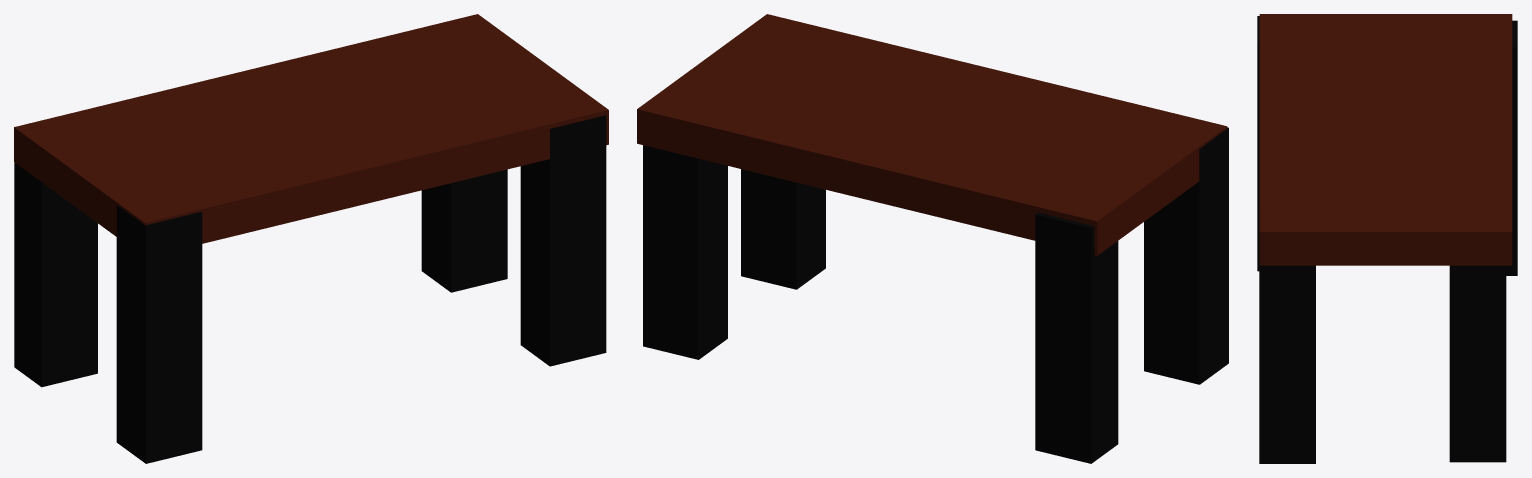
Rendered from desk.fbx.
3 renders of one model, left to right at view 1: azimuth 30°, elevation 25°; view 2: azimuth 150°, elevation 25°; view 3: azimuth 270°, elevation 25°, orthographic. The views are drawn at different scales.
Parts seen in each view (by area): view 1: 立方体.004, 立方体.001, 立方体.002, 立方体, 立方体.003; view 2: 立方体.004, 立方体, 立方体.001, 立方体.003, 立方体.002; view 3: 立方体.004, 立方体.003, 立方体.002, 立方体, 立方体.001.
Part boxes in pixels (left/top/right/bottom): 立方体.004: left=14, top=14, right=608, bottom=243; 立方体.001: left=116, top=205, right=202, bottom=463; 立方体.002: left=520, top=115, right=606, bottom=366; 立方体: left=14, top=162, right=97, bottom=387; 立方体.003: left=421, top=169, right=507, bottom=292; 立方体.004: left=637, top=14, right=1227, bottom=255; 立方体: left=1035, top=212, right=1118, bottom=463; 立方体.001: left=1144, top=127, right=1228, bottom=384; 立方体.003: left=643, top=145, right=727, bottom=359; 立方体.002: left=741, top=169, right=825, bottom=289; 立方体.004: left=1259, top=14, right=1512, bottom=265; 立方体.003: left=1449, top=265, right=1506, bottom=462; 立方体.002: left=1259, top=209, right=1315, bottom=463; 立方体: left=1506, top=20, right=1517, bottom=275; 立方体.001: left=1257, top=16, right=1259, bottom=271.
Size of the model in its own units: 409 by 205 by 206.
